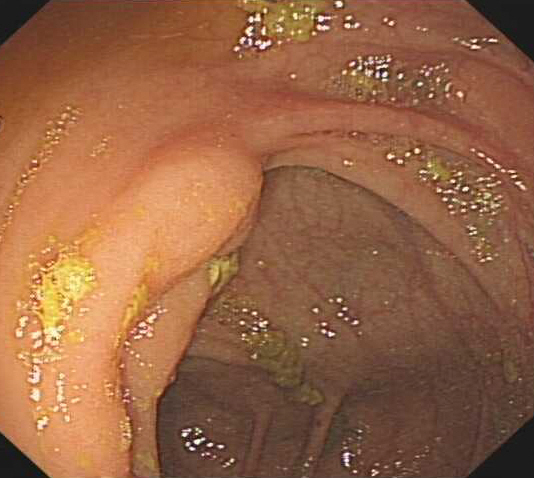others: (117, 145, 264, 264)
